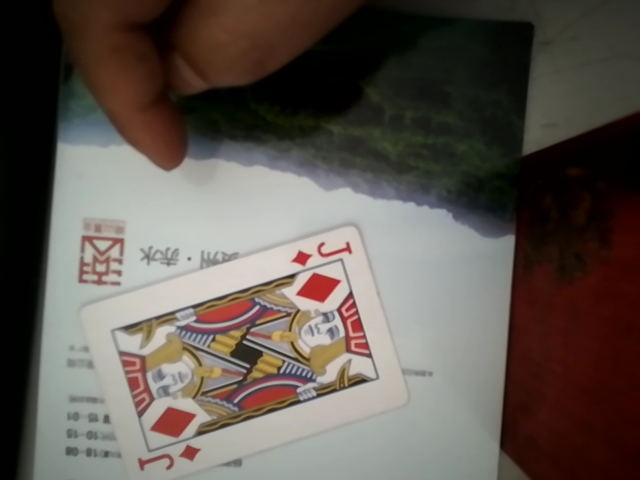fk j: (86, 226, 409, 473)
